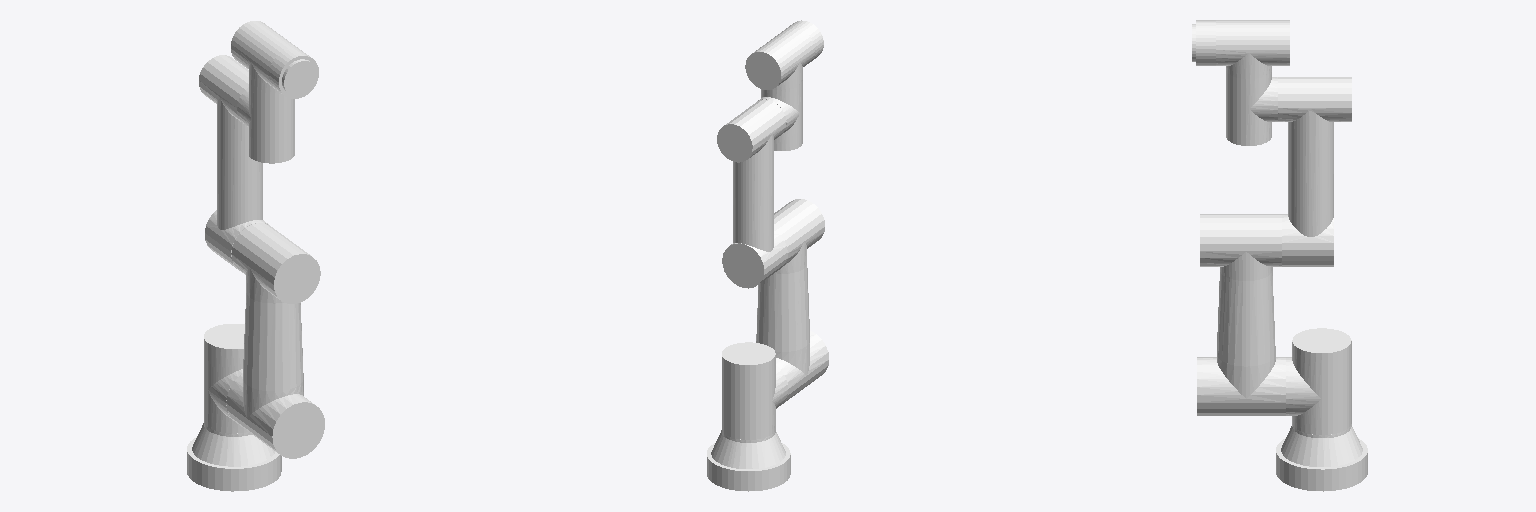
robot.urdf — aubo_iS3_T1:
<?xml version="1.0"?>
<robot  name="aubo_iS3_T1">
  <dh_type type="modified"/>
  <safety_para singularity_consistent="0.02 0.01 10 0.2 0.045 10"/>
  <link name="base_link">
    <inertial>
      <origin xyz="0.000145 -0.000526 0.034207" rpy="0 0 0" />
      <mass value="1.412307" />
      <inertia ixx="0.002893" ixy="-0.000001" ixz="0.000002" iyy="0.002866" iyz="-0.000011" izz="0.003975" />
    </inertial>
    <visual>
      <origin xyz="0 0 0" rpy="0 0 0" />
      <geometry>
        <mesh filename="package://aubo_description/meshes/aubo_iS3_T1/collision/link0.STL" />
      </geometry>
      <material name="">
        <color rgba="1 1 1 1" />
      </material>
    </visual>
    <collision>
      <origin xyz="0 0 0" rpy="0 0 0" />
      <geometry>
        <mesh filename="package://aubo_description/meshes/aubo_iS3_T1/collision/link0.STL" />
      </geometry>
    </collision>
  </link>

  <link name="shoulder_Link">
    <inertial>
      <origin xyz="-0.000014 0.001713 -0.019537" rpy="0 0 0" />
      <mass value="2.906210" />
      <inertia ixx="0.004711" ixy="-0.000001" ixz="0.000001" iyy="0.004690" iyz="-0.000119" izz="0.003359" />
    </inertial>
    <visual>
      <origin xyz="0 0 0" rpy="0 0 0" />
      <geometry>
        <mesh filename="package://aubo_description/meshes/aubo_iS3_T1/collision/link1.STL" />
      </geometry>
      <material name="">
        <color rgba="1 1 1 1" />
      </material>
    </visual>
    <collision>
      <origin xyz="0 0 0" rpy="0 0 0" />
      <geometry>
        <mesh filename="package://aubo_description/meshes/aubo_iS3_T1/collision/link1.STL" />
      </geometry>
    </collision>
  </link>

  <joint name="shoulder_joint" type="revolute">
    <origin xyz="0 0 0.156" rpy="0 0 3.1415926535897932384626433832795" />
    <parent link="base_link" />
    <child link="shoulder_Link" />
    <axis xyz="0 0 1" />
    <limit lower="-6.283185307179586476925286766559" upper="6.283185307179586476925286766559" effort="61" start_stop="102" velocity="3.1104877758314784539234092903757" />
    <property inertia="0" damping="0" stiffness="0" offset="0" motor_constant="8.58" ratio="101"/>
  </joint>

  <link name="upperArm_Link">
    <inertial>
      <origin xyz="0.116495 0.000006 -0.016602" rpy="0 0 0" />
      <mass value="5.583211" />
      <inertia ixx="0.008619" ixy="0.000007" ixz="-0.001257" iyy="0.096760" iyz="-0.000001" izz="0.094072" />
    </inertial>
    <visual>
      <origin xyz="0 0 0" rpy="0 0 0" />
      <geometry>
        <mesh filename="package://aubo_description/meshes/aubo_iS3_T1/collision/link2.STL" />
      </geometry>
      <material name="">
        <color rgba="1 1 1 1" />
      </material>
    </visual>
    <collision>
      <origin xyz="0 0 0" rpy="0 0 0" />
      <geometry>
        <mesh filename="package://aubo_description/meshes/aubo_iS3_T1/collision/link2.STL" />
      </geometry>
    </collision>
  </link>

  <joint name="upperArm_joint" type="revolute">
    <origin xyz="0 0.1205 0" rpy="-1.5707963267948966192313216916398 -1.5707963267948966192313216916398 0" />
    <parent link="shoulder_Link" />
    <child link="upperArm_Link" />
    <axis xyz="0 0 1" />
    <limit lower="-6.283185307179586476925286766559" upper="6.283185307179586476925286766559" effort="61" start_stop="102" velocity="3.1104877758314784539234092903757" />
    <property inertia="0" damping="0" stiffness="0" offset="0" motor_constant="8.58" ratio="101"/>
  </joint>

  <link name="foreArm_Link">
    <inertial>
      <origin xyz="0.198096 0.001004 0.095317" rpy="0 0 0" />
      <mass  value="2.199571" />
      <inertia ixx="0.002384" ixy="-0.000096" ixz="0.000641" iyy="0.021203" iyz="0.000004" izz="0.020596" />
    </inertial>
    <visual>
      <origin xyz="0 0 0" rpy="0 0 0" />
      <geometry>
        <mesh filename="package://aubo_description/meshes/aubo_iS3_T1/collision/link3.STL" />
      </geometry>
      <material name="">
        <color rgba="1 1 1 1" />
      </material>
    </visual>
    <collision>
      <origin xyz="0 0 0" rpy="0 0 0" />
      <geometry>
        <mesh filename="package://aubo_description/meshes/aubo_iS3_T1/collision/link3.STL" />
      </geometry>
    </collision>
  </link>

  <joint name="foreArm_joint" type="revolute">
    <origin xyz="0.266 0 0" rpy="-3.1415926535897932384626433832795 0 0" />
    <parent link="upperArm_Link" />
    <child link="foreArm_Link" />
    <axis xyz="0 0 1" />
    <limit lower="-6.283185307179586476925286766559" upper="6.283185307179586476925286766559" effort="49" start_stop="66" velocity="3.1104877758314784539234092903757" />
    <property inertia="0" damping="0" stiffness="0" offset="0" motor_constant="8.81" ratio="101"/>
  </joint>

  <link name="wrist1_Link">
    <inertial>
      <origin xyz="0.000022 0.014886 -0.001687" rpy="0 0 0" />
      <mass value="1.505192" />
      <inertia ixx="0.001628" ixy="0.000001" ixz="0.000001" iyy="0.001015" iyz="-0.000042" izz="0.001603" />
    </inertial>
    <visual>
      <origin xyz="0 0 0" rpy="0 0 0" />
      <geometry>
        <mesh filename="package://aubo_description/meshes/aubo_iS3_T1/collision/link4.STL" />
      </geometry>
      <material name="">
        <color rgba="1 1 1 1" />
      </material>
    </visual>
    <collision>
      <origin xyz="0 0 0" rpy="0 0 0" />
      <geometry>
        <mesh filename="package://aubo_description/meshes/aubo_iS3_T1/collision/link4.STL" />
      </geometry>
    </collision>
  </link>

  <joint name="wrist1_joint" type="revolute">
    <origin xyz="0.2565 0 0" rpy="3.1415926535897932384626433832795 0 1.5707963267948966192313216916398" />
    <parent link="foreArm_Link" />
    <child link="wrist1_Link" />
    <axis xyz="0 0 1" />
    <limit lower="-6.283185307179586476925286766559" upper="6.283185307179586476925286766559" effort="13.5" start_stop="34" velocity="3.1104877758314784539234092903757" />
    <property inertia="0" damping="0" stiffness="0" offset="0" motor_constant="7.092" ratio="101"/>
  </joint>

  <link name="wrist2_Link">
    <inertial>
      <origin xyz="-0.000022 -0.014886 -0.001687" rpy="0 0 0" />
      <mass value="1.505192" />
      <inertia ixx="0.001628" ixy="0.000001" ixz="0.000001" iyy="0.001015" iyz="-0.000042" izz="0.001603" />
    </inertial>
    <visual>
      <origin xyz="0 0 0" rpy="0 0 0" />
      <geometry>
        <mesh filename="package://aubo_description/meshes/aubo_iS3_T1/collision/link5.STL" />
      </geometry>
      <material name="">
        <color rgba="1 1 1 1" />
      </material>
    </visual>
    <collision>
      <origin xyz="0 0 0" rpy="0 0 0" />
      <geometry>
        <mesh filename="package://aubo_description/meshes/aubo_iS3_T1/collision/link5.STL" />
      </geometry>
    </collision>
  </link>

  <joint name="wrist2_joint" type="revolute">
    <origin xyz="0 0.1025 0" rpy="-1.5707963267948966192313216916398 0 0" />
    <parent link="wrist1_Link" />
    <child link="wrist2_Link" />
    <axis xyz="0 0 1" />
    <limit lower="-6.283185307179586476925286766559" upper="6.283185307179586476925286766559" effort="13.5" start_stop="34" velocity="3.1104877758314784539234092903757" />
    <property inertia="0" damping="0" stiffness="0" offset="0" motor_constant="7.092" ratio="101"/>
  </joint>

  <link name="wrist3_Link">
    <inertial>
      <origin xyz="0.000826 -0.000398 -0.017152" rpy="0 0 0" />
      <mass value="0.238363" />
      <inertia ixx="0.000126" ixy="0.000002" ixz="0.000001" iyy="0.000130" iyz="-0.000001" izz="0.000207" />
    </inertial>
    <visual>
      <origin xyz="0 0 0" rpy="0 0 0" />
      <geometry>
        <mesh filename="package://aubo_description/meshes/aubo_iS3_T1/collision/link6.STL" />
      </geometry>
      <material name="">
        <color rgba="1 1 1 1" />
      </material>
    </visual>
    <collision>
      <origin xyz="0 0 0" rpy="0 0 0" />
      <geometry>
        <mesh filename="package://aubo_description/meshes/aubo_iS3_T1/collision/link6.STL" />
      </geometry>
    </collision>
  </link>

  <joint name="wrist3_joint" type="revolute">
    <origin xyz="0 -0.094 0" rpy="1.5707963267948966192313216916398 0 1.7907E-15" />
    <parent link="wrist2_Link" />
    <child link="wrist3_Link" />
    <axis xyz="0 0 1" />
    <limit lower="-6.283185307179586476925286766559" upper="6.283185307179586476925286766559" effort="13.5" start_stop="34" velocity="3.1104877758314784539234092903757" />
    <property inertia="0" damping="0" stiffness="0" offset="0" motor_constant="7.092" ratio="101"/>
  </joint>

  <link name="world" />

  <joint name="world_joint" type="fixed">
    <parent link="world" />
    <child link = "base_link" />
    <origin xyz="0.0 0.0 0.0" rpy="0.0 0.0 0.0" />
  </joint>
</robot>

--- What the picture shows (computed from the rendered views, not written in the file) ---
3 views of the same robot in one strip: view 1: azimuth 30°, elevation 25°; view 2: azimuth 150°, elevation 25°; view 3: azimuth 270°, elevation 25° (orthographic).
Robot: aubo_iS3_T1 — 8 links, 7 joints (6 revolute, 1 fixed); root link world; default pose: all joints at 0.
Visible links, largest first — view 1: upperArm_Link, foreArm_Link, base_link, shoulder_Link, wrist1_Link, wrist2_Link, wrist3_Link; view 2: foreArm_Link, upperArm_Link, shoulder_Link, base_link, wrist2_Link, wrist1_Link; view 3: upperArm_Link, foreArm_Link, shoulder_Link, base_link, wrist2_Link, wrist1_Link, wrist3_Link.
Boxes of the visible links, left/top/right/bottom form: upperArm_Link: left=226, top=223, right=324, bottom=458; foreArm_Link: left=199, top=55, right=268, bottom=270; base_link: left=187, top=423, right=281, bottom=491; shoulder_Link: left=204, top=324, right=247, bottom=433; wrist1_Link: left=237, top=87, right=294, bottom=163; wrist2_Link: left=231, top=21, right=301, bottom=94; wrist3_Link: left=269, top=48, right=318, bottom=98; foreArm_Link: left=717, top=99, right=787, bottom=288; upperArm_Link: left=756, top=199, right=828, bottom=403; shoulder_Link: left=722, top=342, right=787, bottom=439; base_link: left=707, top=430, right=790, bottom=491; wrist2_Link: left=745, top=27, right=814, bottom=89; wrist1_Link: left=758, top=83, right=802, bottom=150; upperArm_Link: left=1197, top=214, right=1285, bottom=415; foreArm_Link: left=1278, top=77, right=1351, bottom=266; shoulder_Link: left=1286, top=328, right=1351, bottom=434; base_link: left=1276, top=423, right=1367, bottom=491; wrist2_Link: left=1216, top=20, right=1289, bottom=78; wrist1_Link: left=1226, top=71, right=1277, bottom=145; wrist3_Link: left=1192, top=20, right=1215, bottom=65.
Size in the robot's own frame: 0.1519 by 0.2905 by 0.8185 metres.
Meshes: 7 distinct files referenced, 7 mesh visuals loaded (7 binary STL).
